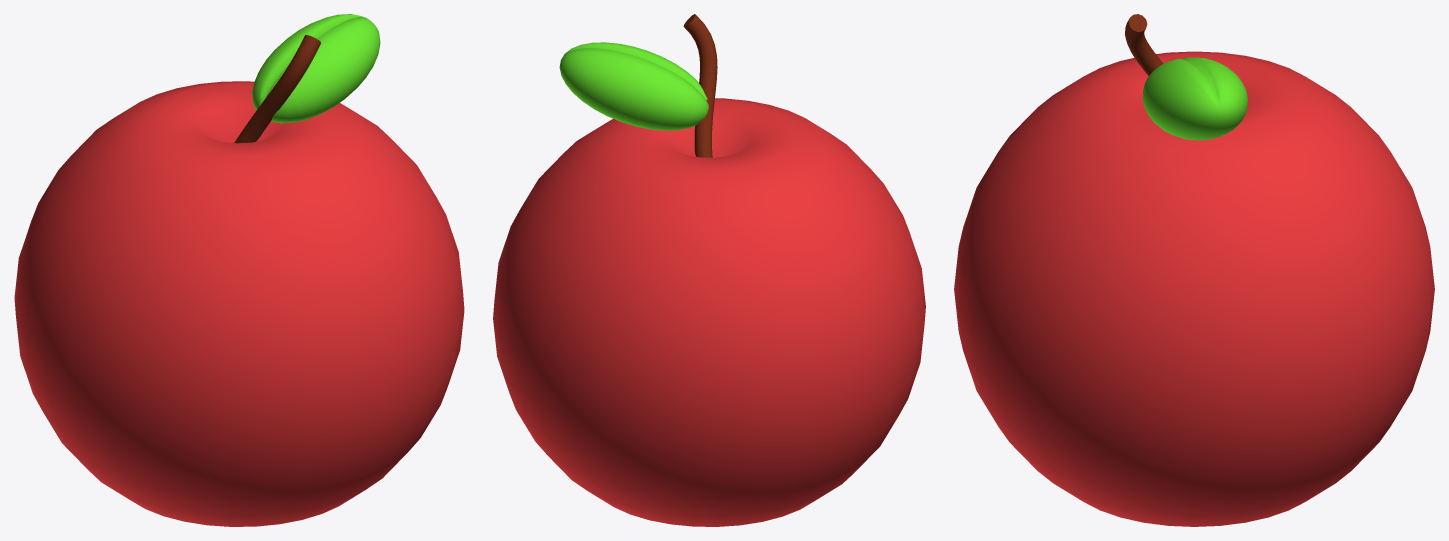
The model's file is apple.glb.
3 renders of one model, left to right at view 1: azimuth 30°, elevation 25°; view 2: azimuth 150°, elevation 25°; view 3: azimuth 270°, elevation 25°, orthographic. The views are drawn at different scales.
Parts seen in each view (by area): view 1: Sphere, Sphere.001, BezierCurve; view 2: Sphere, Sphere.001, BezierCurve; view 3: Sphere, Sphere.001, BezierCurve.
Part boxes in pixels (x1,y1,x2,y2): Sphere: [14, 81, 464, 526]; Sphere.001: [252, 14, 380, 123]; BezierCurve: [234, 35, 320, 143]; Sphere: [493, 98, 925, 526]; Sphere.001: [559, 42, 708, 130]; BezierCurve: [683, 14, 717, 157]; Sphere: [954, 51, 1434, 526]; Sphere.001: [1142, 57, 1247, 140]; BezierCurve: [1125, 14, 1163, 76].
Size of what is drawn, in the model's own units: 0.4185 by 0.4738 by 0.4185.
